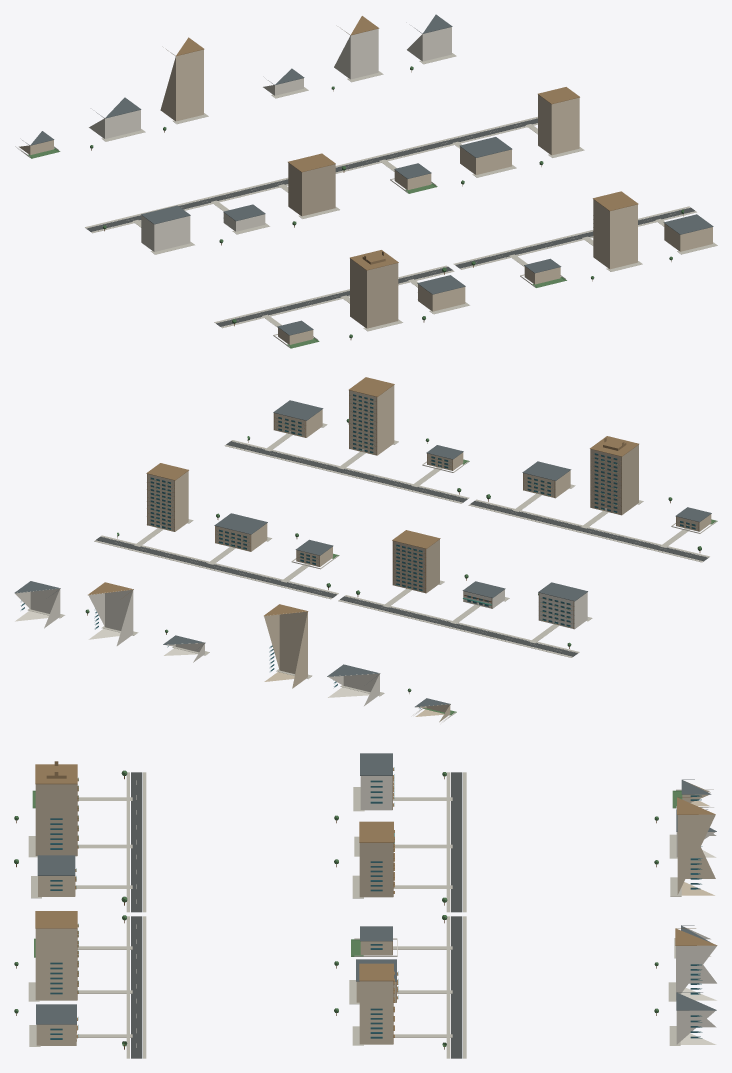
The model's file is cell_4_-2_full.gltf.
3 views of the same model, one above another, from view 1: azimuth 30°, elevation 25°; view 2: azimuth 150°, elevation 25°; view 3: azimuth 270°, elevation 25° (orthographic). The views are drawn at different scales.
Visible parts, largest first — view 1: GIDI_IKOYI_WATERFRONT_DISTRICT_V2_MESH; view 2: GIDI_IKOYI_WATERFRONT_DISTRICT_V2_MESH; view 3: GIDI_IKOYI_WATERFRONT_DISTRICT_V2_MESH.
Part boxes in pixels (x1,y1,x2,y2): GIDI_IKOYI_WATERFRONT_DISTRICT_V2_MESH: [15, 14, 717, 348]; GIDI_IKOYI_WATERFRONT_DISTRICT_V2_MESH: [14, 377, 717, 722]; GIDI_IKOYI_WATERFRONT_DISTRICT_V2_MESH: [14, 753, 717, 1058].
Size of the model in its own units: 423 by 56.17 by 440.
